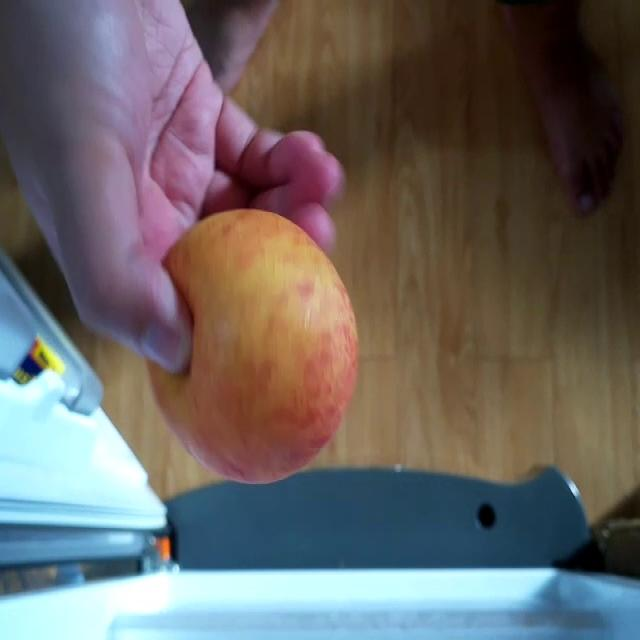apple: (154, 208, 361, 488)
